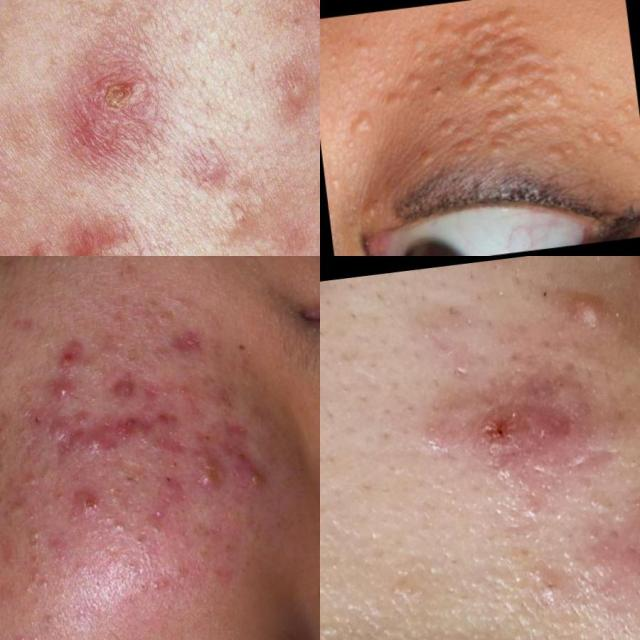acne_scars: (111, 402, 179, 453), (166, 326, 209, 364)
comedone: (18, 462, 62, 494), (23, 518, 52, 552), (104, 516, 131, 539)
cystic: (22, 211, 170, 256)
flat_wart: (512, 49, 618, 127), (477, 83, 578, 155), (453, 44, 558, 103), (451, 6, 535, 62), (409, 113, 482, 177), (380, 51, 456, 110), (544, 121, 628, 174), (346, 110, 382, 140)
milium: (324, 162, 351, 204)
papule: (436, 375, 600, 492), (560, 277, 618, 337), (525, 552, 566, 602), (109, 362, 143, 408)
pustule: (237, 454, 271, 495), (56, 337, 88, 376), (81, 426, 113, 462), (48, 377, 78, 410)
sebo-crystan-conglo: (187, 434, 223, 508)
